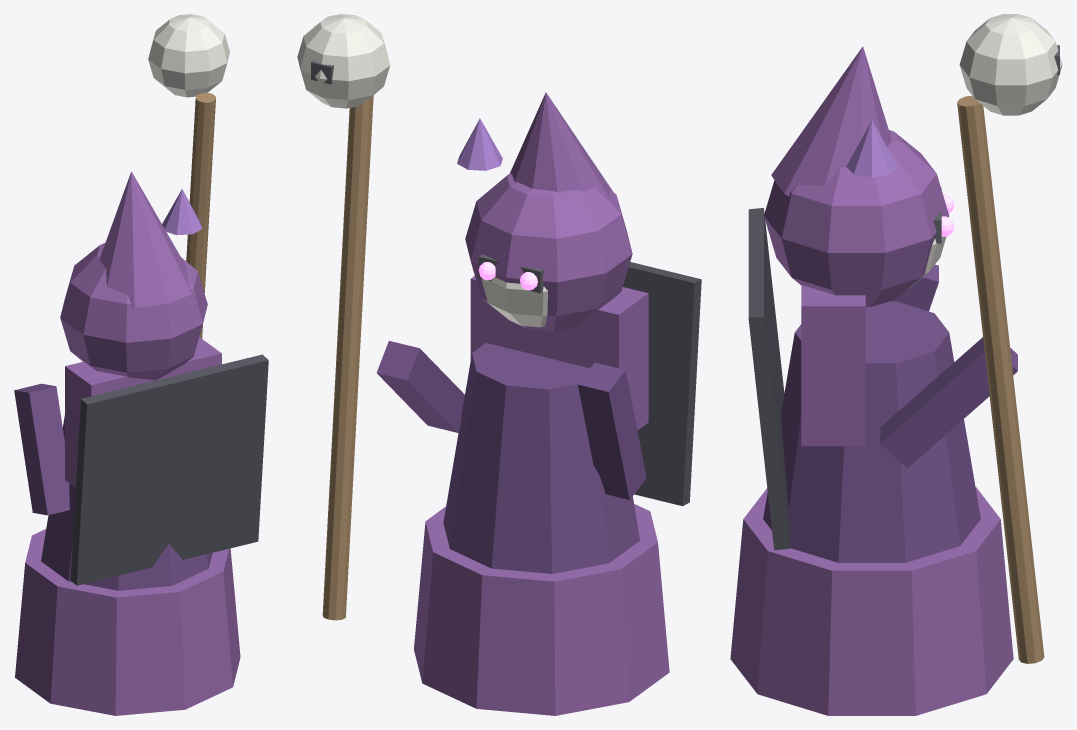
File: night_witch.glb
3 renders of one model, left to right at view 1: azimuth 30°, elevation 25°; view 2: azimuth 150°, elevation 25°; view 3: azimuth 270°, elevation 25°, orthographic. The views are drawn at different scales.
Visible parts, largest first — view 1: night_witch; view 2: night_witch; view 3: night_witch.
Boxes of the visible parts, <box> form: night_witch: <box>14,14,268,715</box>; night_witch: <box>297,14,701,715</box>; night_witch: <box>730,14,1062,715</box>.
Bounding box in the file's own units: 1.36 × 3.05 × 1.29.
